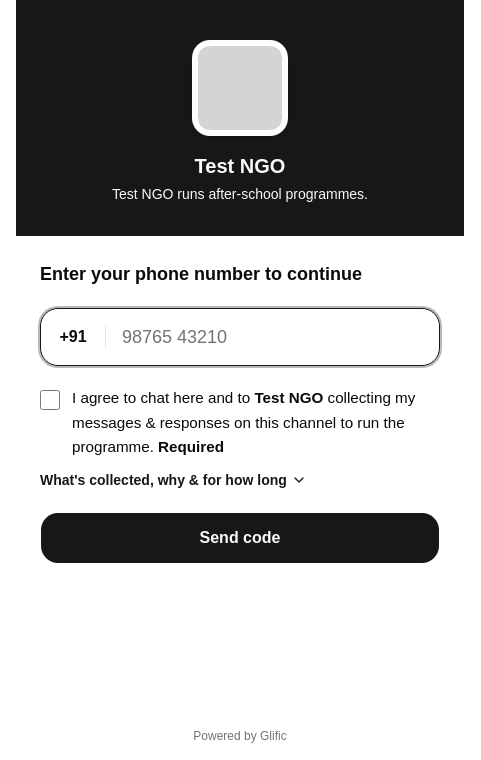
Scenario: <Login /> › spells out what is collected, why and for how long, without leaving the form
The width and height of the screenshot is (481, 760).
Click the button with test id "dataUseToggle": coordinates (173, 480) [40,470,307,490]
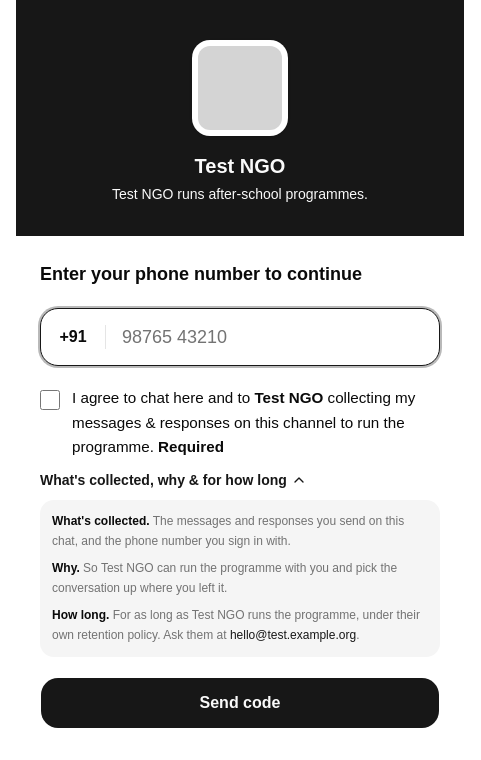
Check: the element with test id "dataUseNote" shows "What's collected", box [52,514,150,528]
Check: the element with test id "dataUseNote" shows "hello@test.example.org", box [230,628,356,642]
